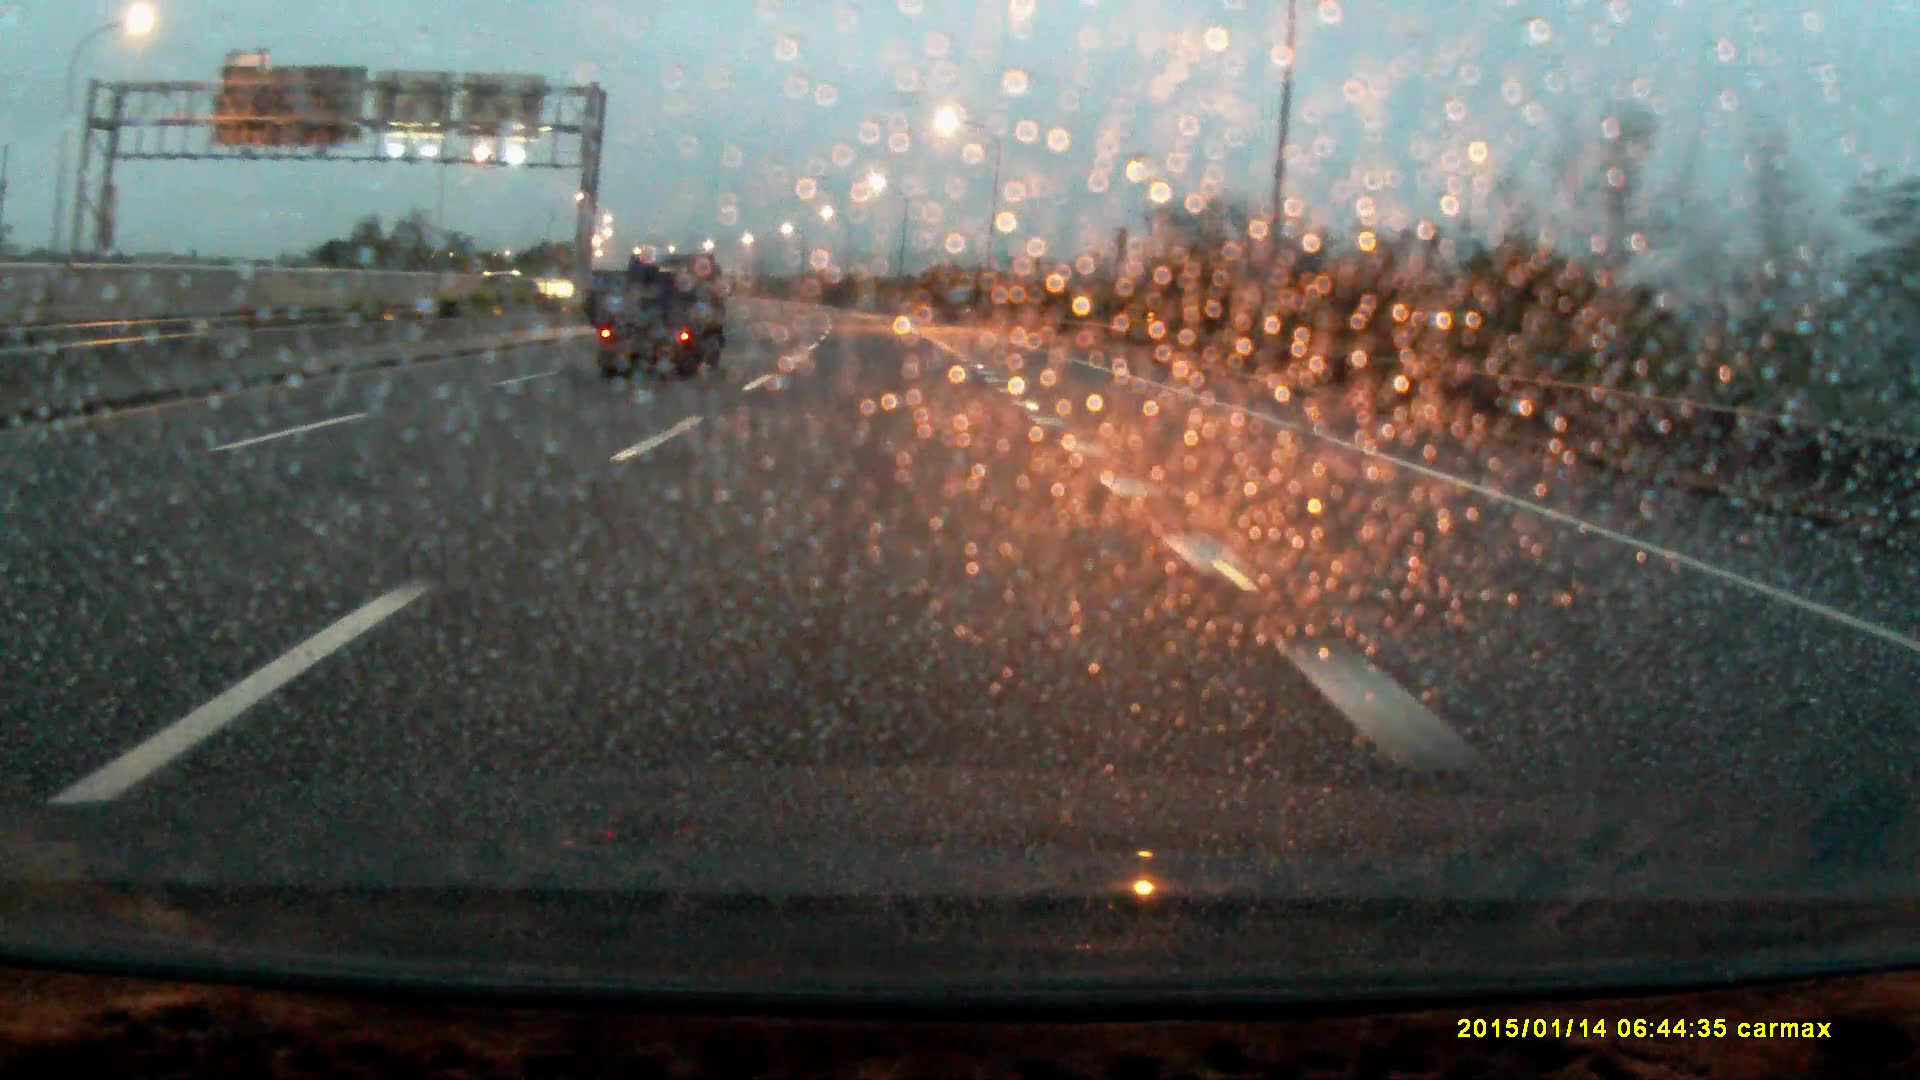vehicle: (593, 255, 731, 378), (483, 272, 566, 309)
